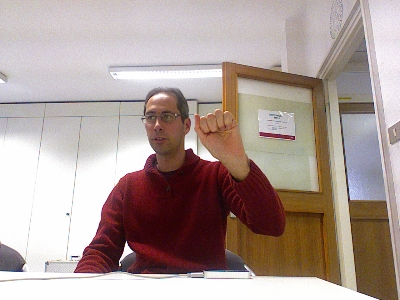石头: (193, 108, 244, 160)
